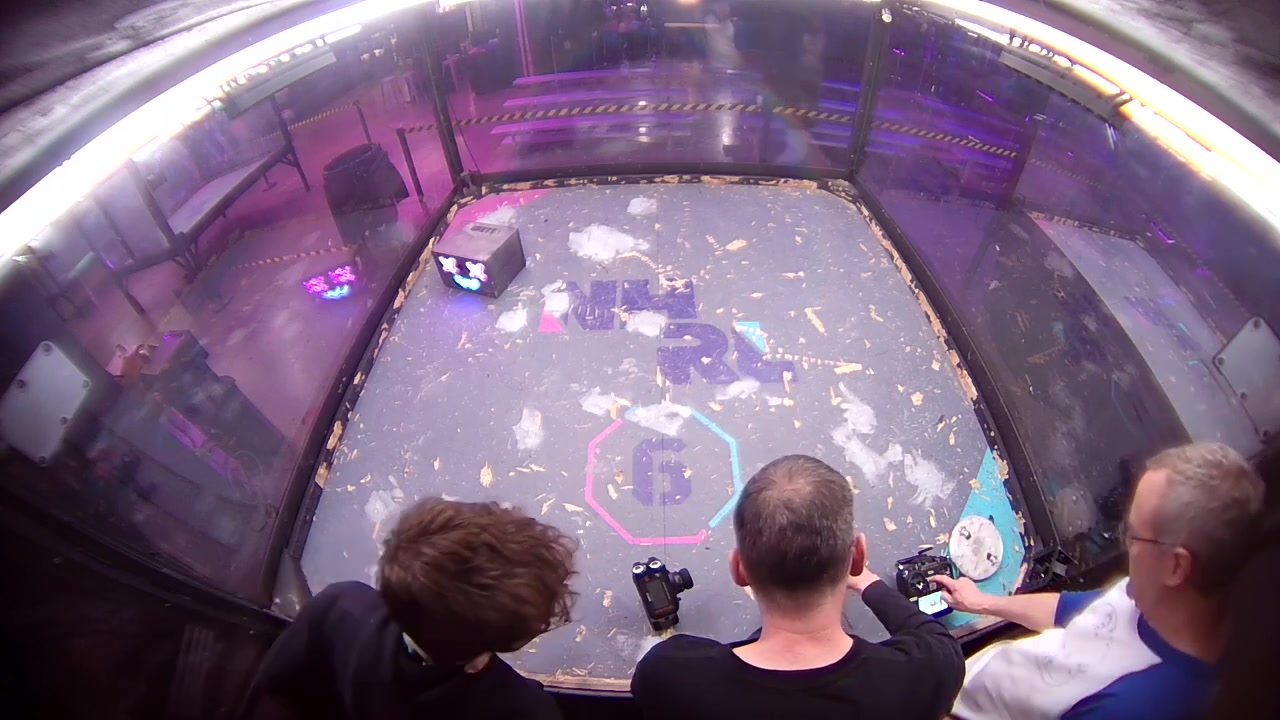combatbot: (947, 515, 1002, 582)
housebot: (434, 219, 525, 298)
